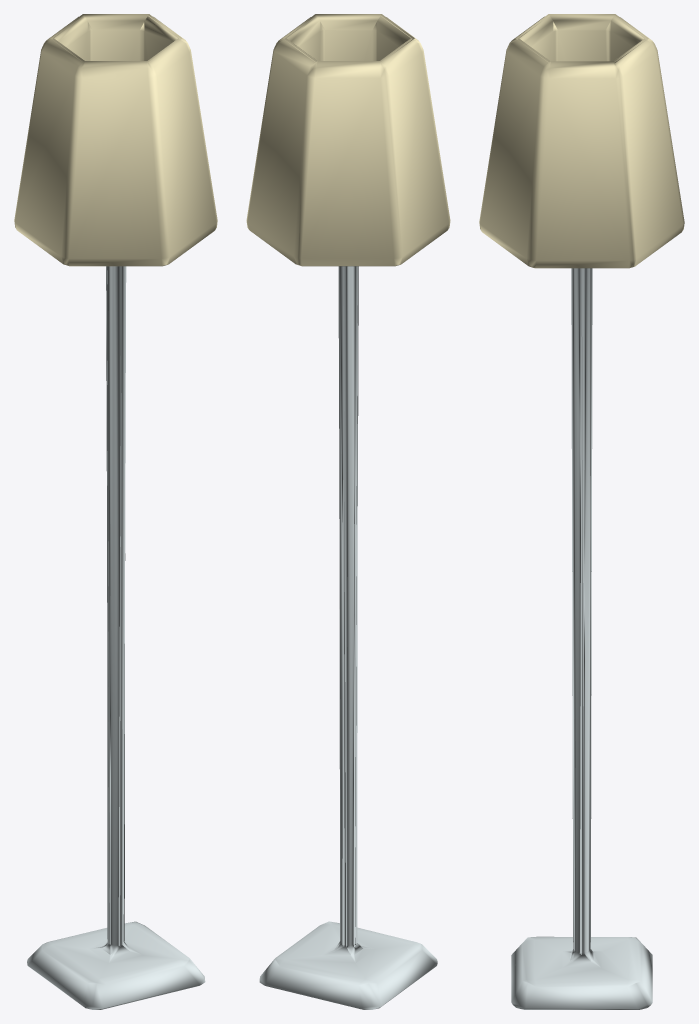
The model's file is floorLamp.glb.
The picture shows the model from 3 angles, left to right: view 1: azimuth 30°, elevation 25°; view 2: azimuth 150°, elevation 25°; view 3: azimuth 270°, elevation 25°; orthographic projection.
Visible parts, largest first — view 1: floorLamp_lampRoundFloor(Clone); view 2: floorLamp_lampRoundFloor(Clone); view 3: floorLamp_lampRoundFloor(Clone).
Part boxes in pixels (x1,y1,x2,y2): floorLamp_lampRoundFloor(Clone): (14, 14, 217, 1009); floorLamp_lampRoundFloor(Clone): (246, 14, 450, 1009); floorLamp_lampRoundFloor(Clone): (479, 14, 684, 1009).
Bounding box in the file's own units: 0.4183 × 2.41 × 0.4753.
